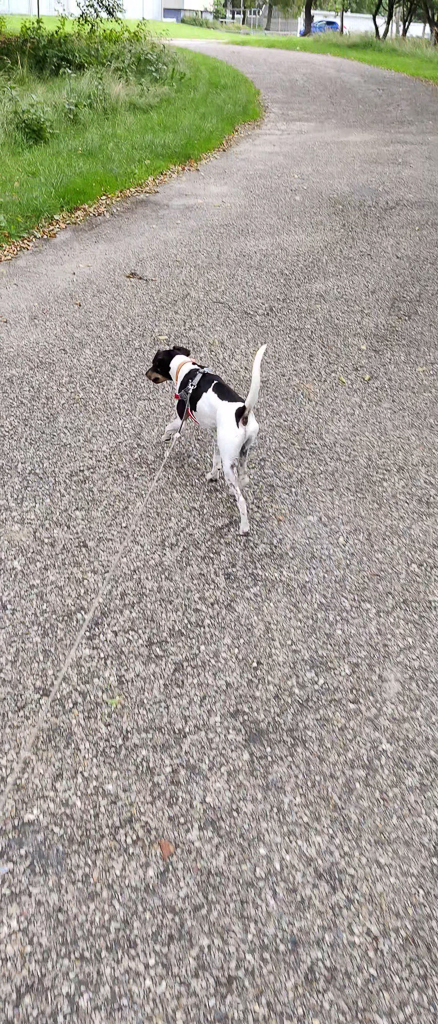Dog: (138, 332, 276, 549)
